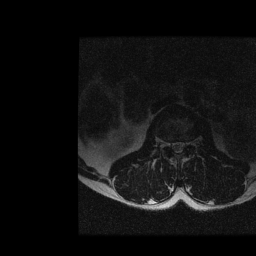CCS_stenosis: (176, 137, 180, 157)
LFS_stenosis: (185, 137, 190, 151)
LLS_stenosis: (180, 137, 185, 153)
RFS_stenosis: (166, 137, 170, 152)
RLS_stenosis: (170, 138, 176, 153)
